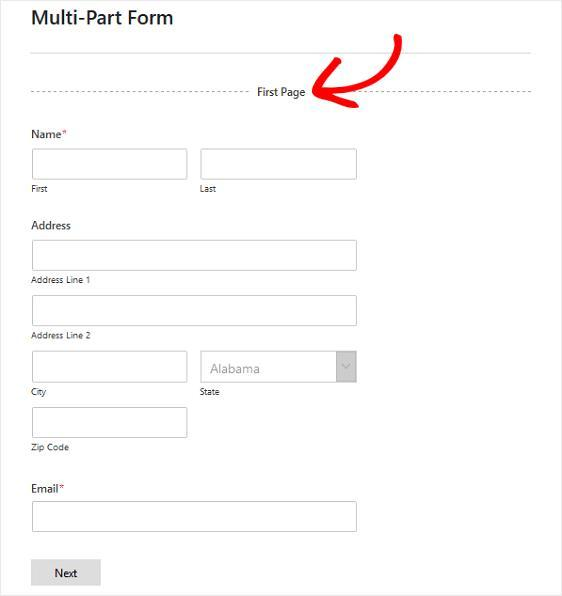button: (32, 558, 104, 588)
dropdown: (200, 353, 357, 383)
input: (32, 502, 358, 535), (30, 240, 357, 272), (33, 296, 358, 326), (32, 350, 188, 383), (32, 407, 187, 440), (202, 149, 360, 181), (33, 150, 190, 179)
label: (26, 5, 181, 33), (26, 327, 96, 345), (26, 216, 80, 236), (250, 86, 308, 102), (29, 274, 92, 288), (29, 480, 69, 499), (30, 125, 71, 142), (34, 442, 71, 454), (192, 182, 221, 196), (198, 386, 227, 399), (31, 181, 52, 197), (30, 387, 51, 398)
